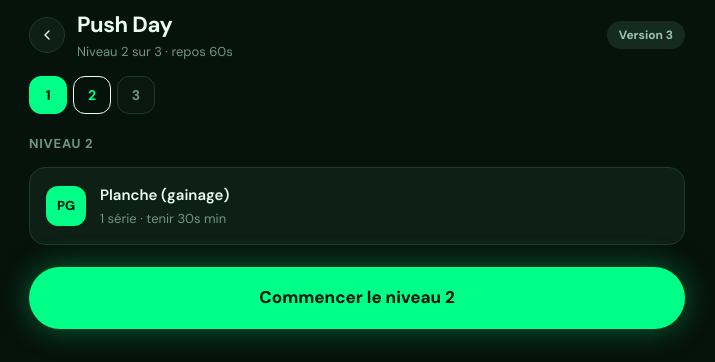
Test: frise des niveaux › montre le contenu du niveau tape
The width and height of the screenshot is (715, 362).
Click the button named "Niveau 1, validé".
click(48, 94)  # box [29,76,67,114]
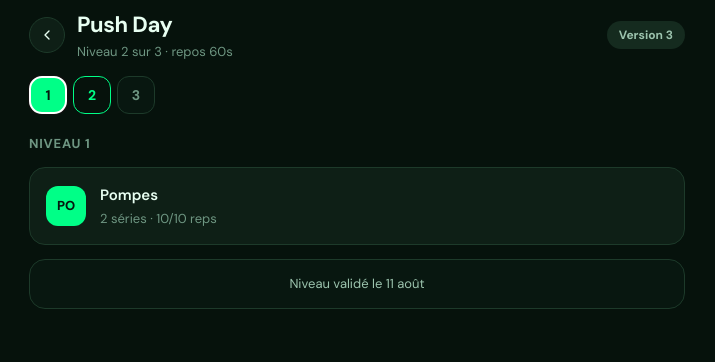
Now the text "Pompes" is shown, box [100,185,158,205]
Now the text "2 séries · 10/10 reps" is shown, box [100,208,217,228]
